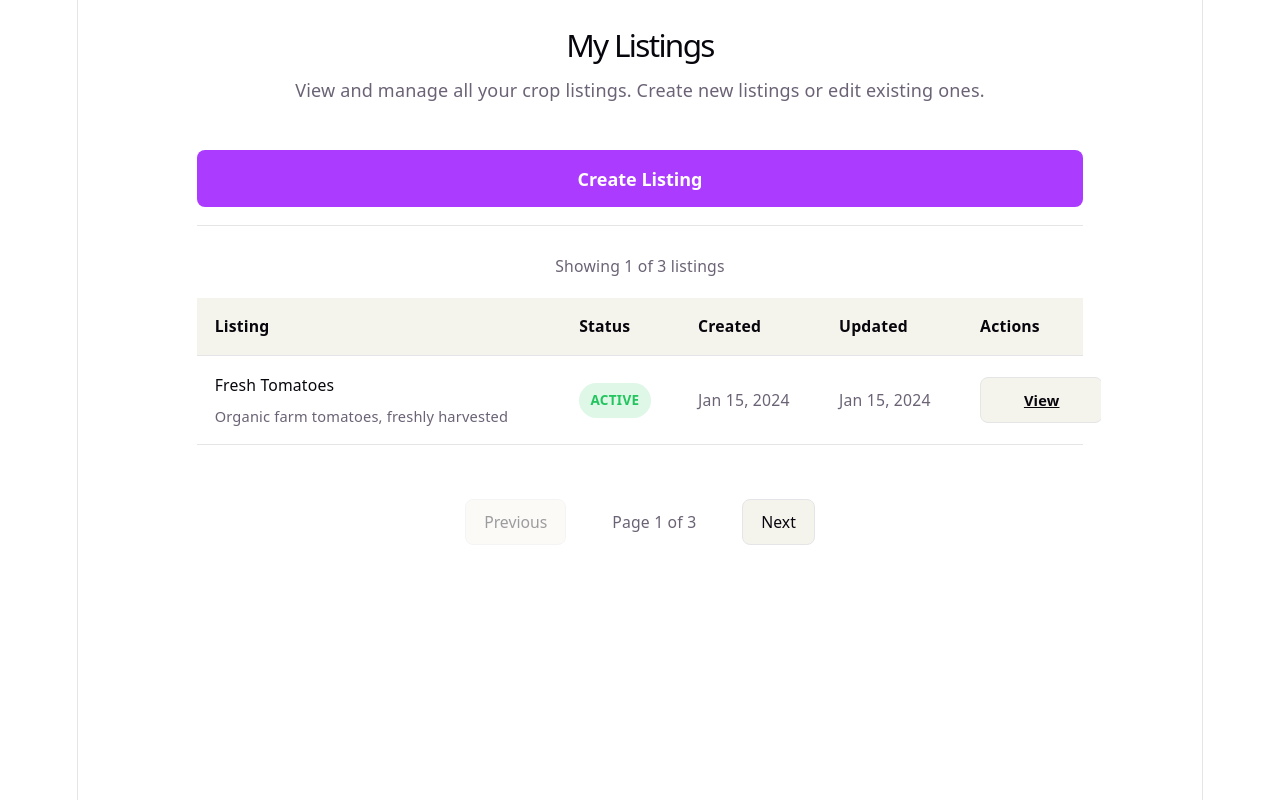
it: MyListingsPage › Next button is disabled on last page
Go to page 2
Click the button "Next".
click(779, 522)  # box [742,499,815,546]
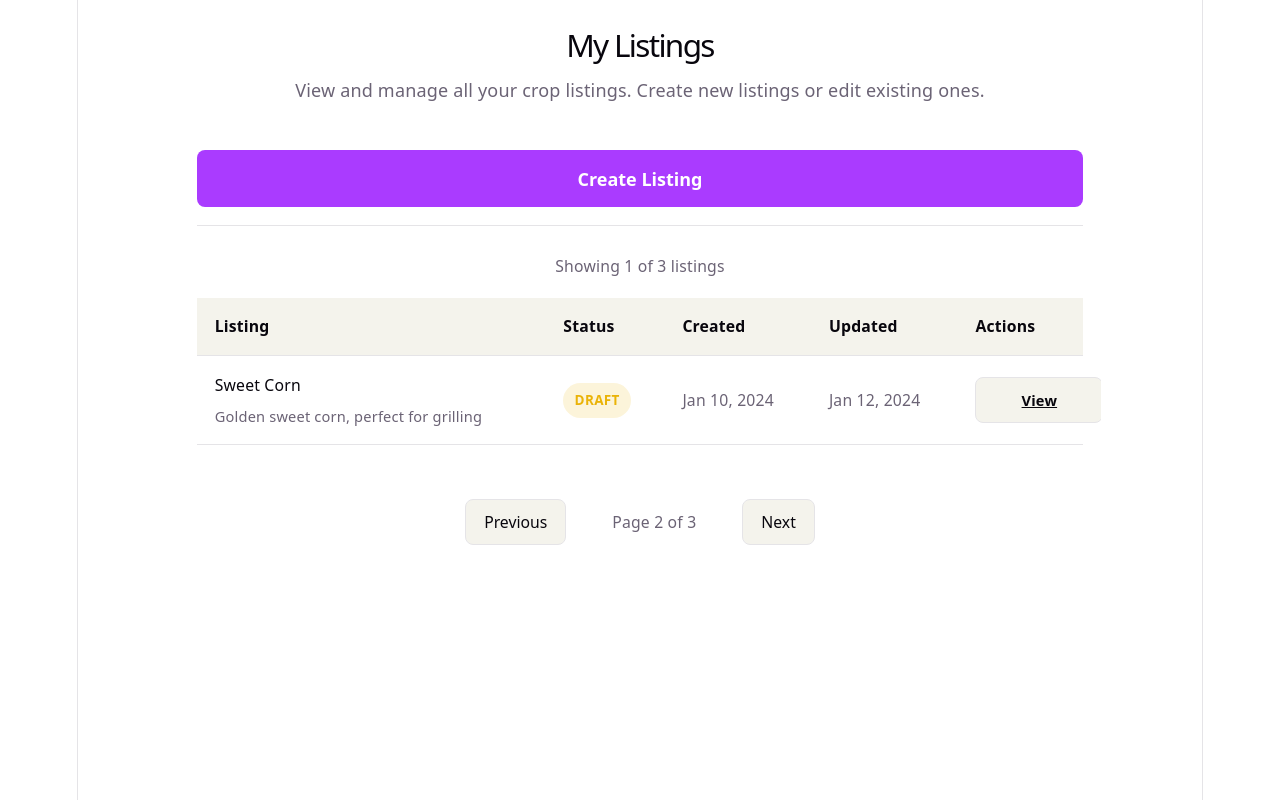
Go to page 3
Click the button "Next".
click(779, 522)  # box [742,499,815,546]
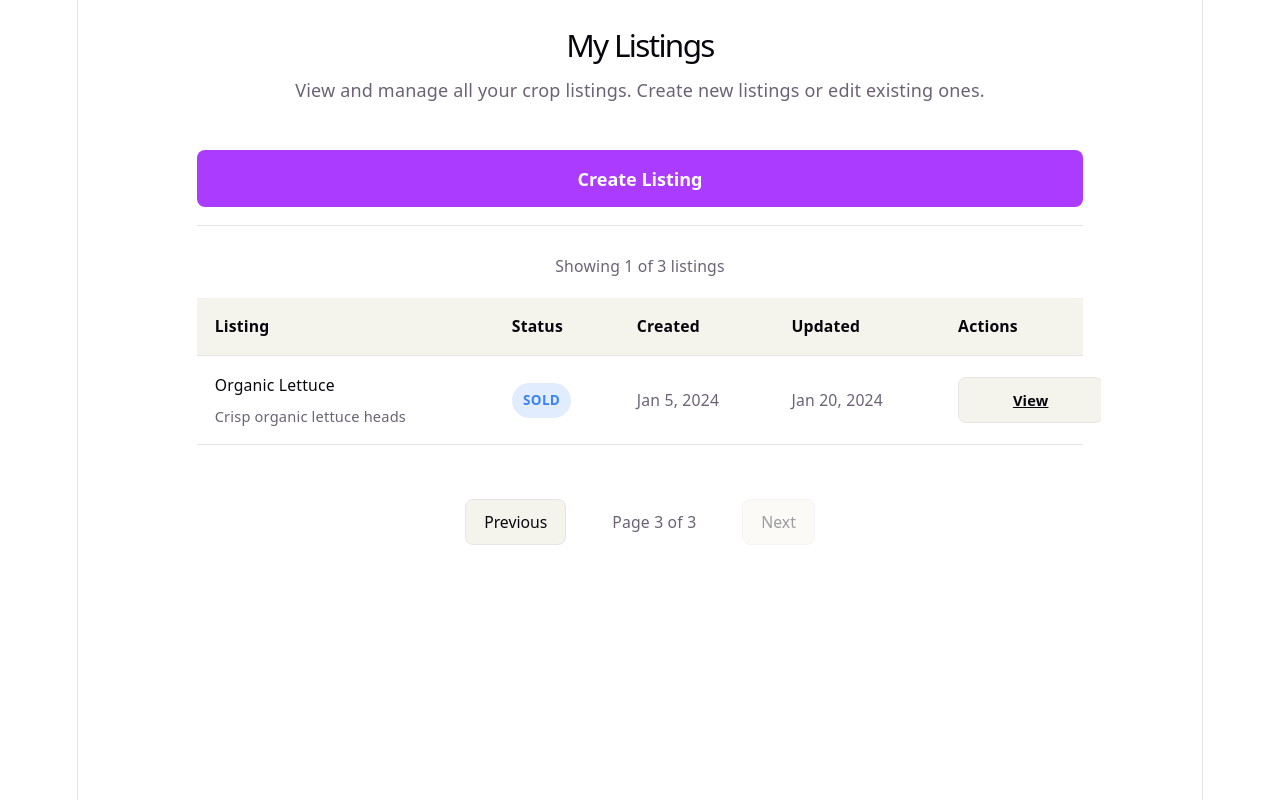
Now the button "Next" is disabled, box [742,499,815,546]
